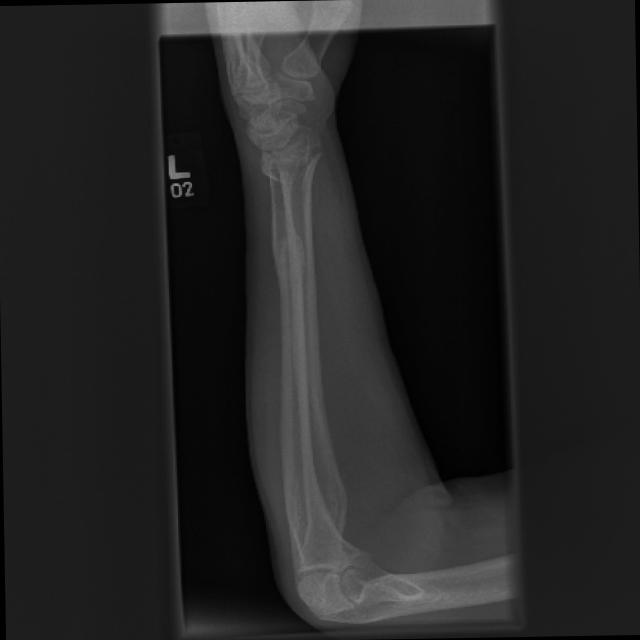forearm fracture: (257, 221, 314, 306)
